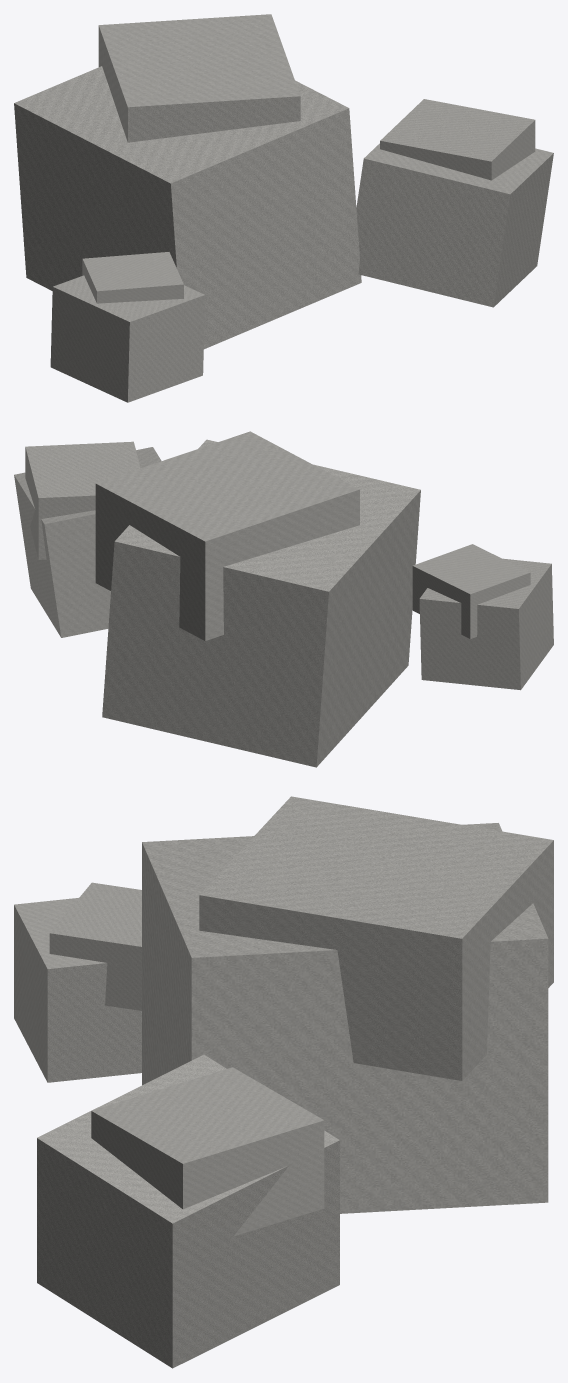
File: andean-terraces-and-stone-village-boulder-set-fd4762d4__38231.glb
The picture shows the model from 3 angles, top to bottom: view 1: azimuth 30°, elevation 25°; view 2: azimuth 150°, elevation 25°; view 3: azimuth 270°, elevation 25°; orthographic projection. The views are drawn at different scales.
Parts seen in each view (by area): view 1: boulder-set-stone; view 2: boulder-set-stone; view 3: boulder-set-stone.
Part boxes in pixels (bbox=[...]): boulder-set-stone: bbox=[14, 14, 553, 402]; boulder-set-stone: bbox=[14, 431, 553, 767]; boulder-set-stone: bbox=[14, 796, 553, 1368].
Bounding box in the file's own units: 2.66 × 1.1 × 1.72.
1 material, 1 textured.
